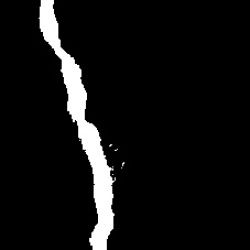crack: (38, 2, 117, 249)
